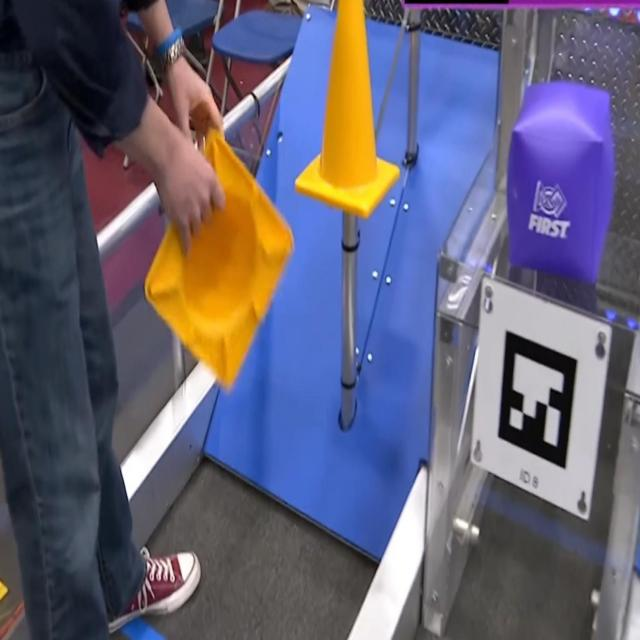frc_cone: (147, 130, 296, 388), (295, 0, 401, 219)
frc_cube: (508, 81, 614, 283)
